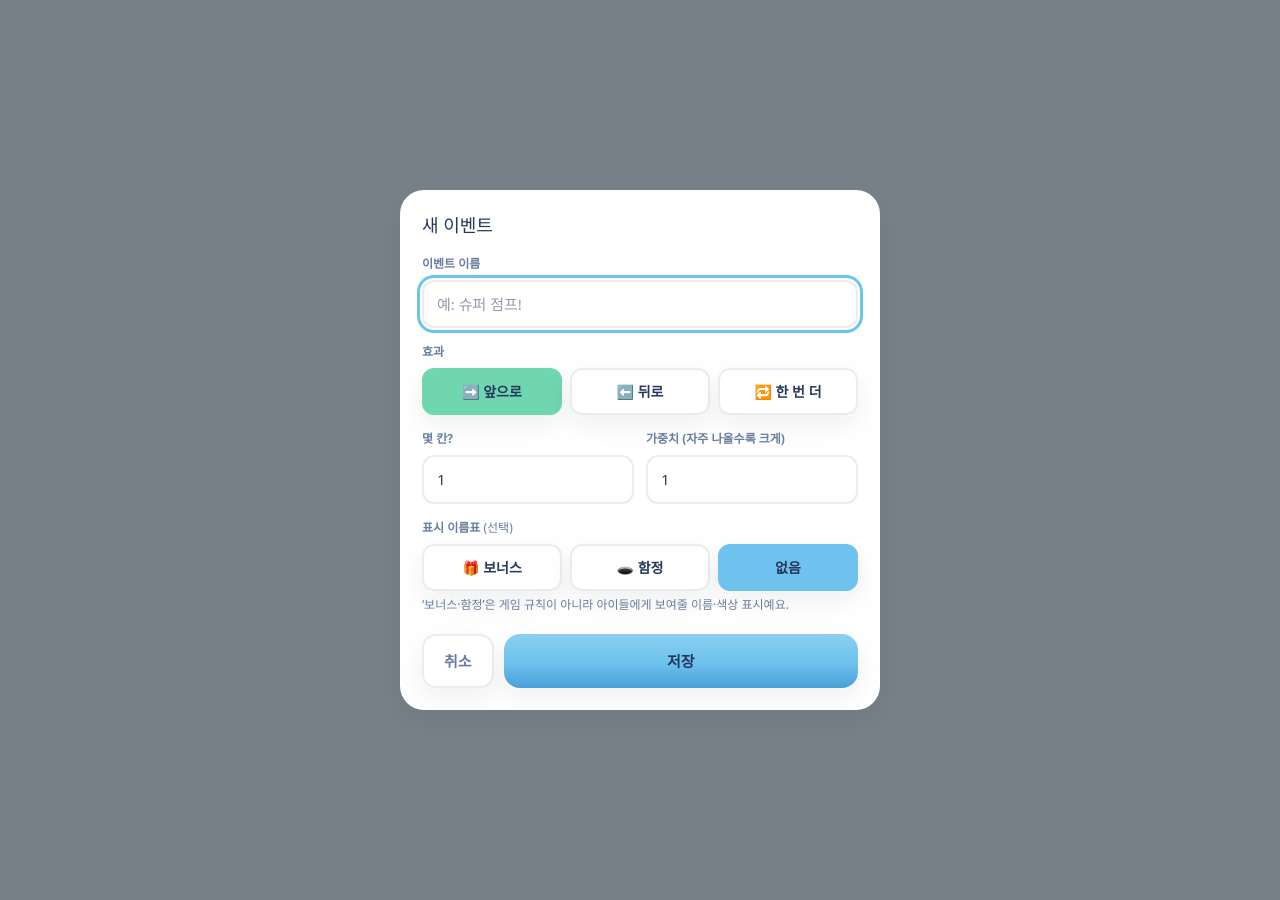
Scenario: EventModal (add/edit, RHF + zodResolver) › blocks an empty-name submit, shows the error toast, and does not touch the store
What coordinates should you click on to do the following:
click the button "저장"
I would click on:
 (681, 661)
Its box is [504,634,858,688].
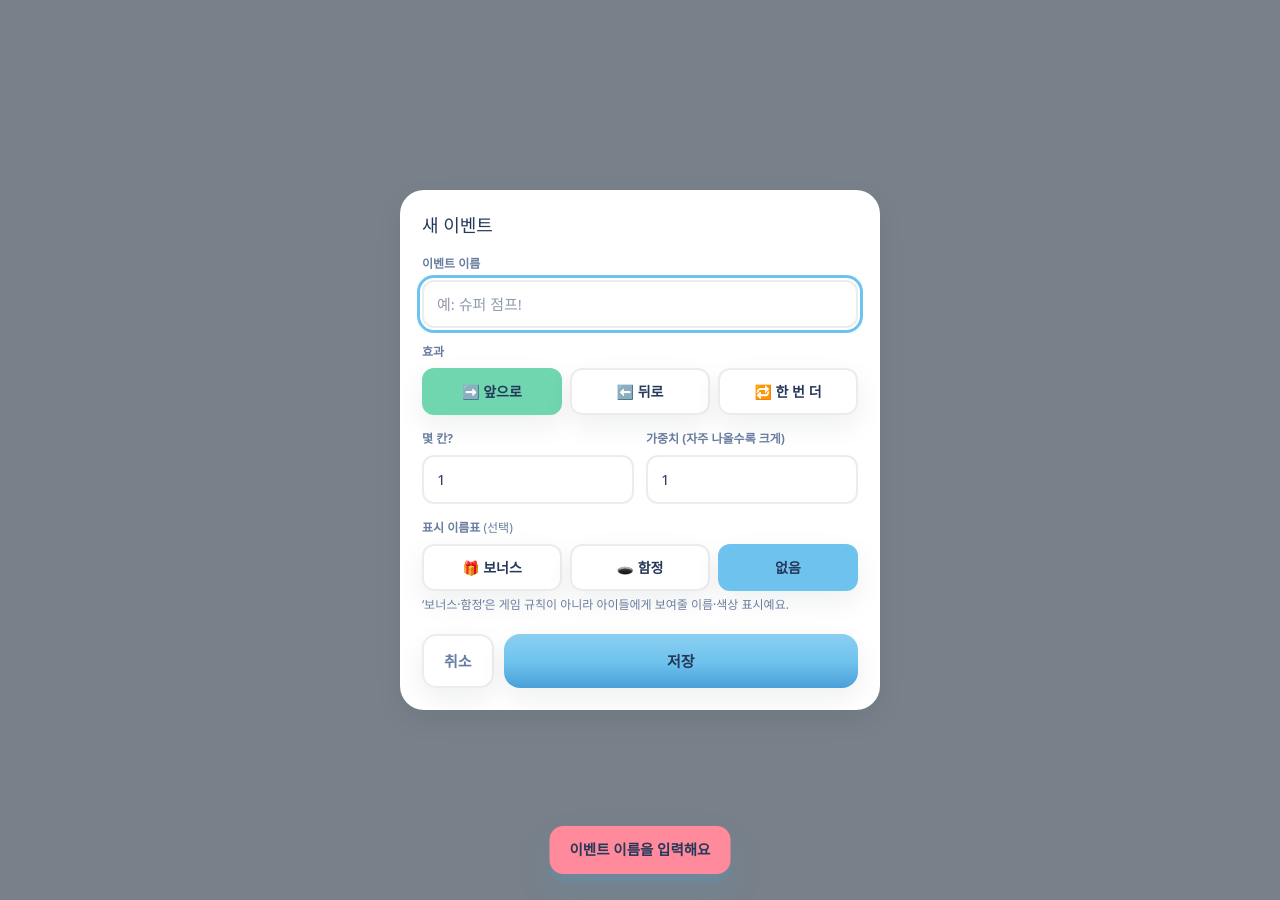
Expected: the text "이벤트 이름을 입력해요" is shown, [550,826,730,874]
